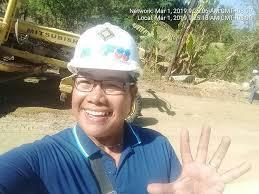helmet: (67, 22, 142, 75)
